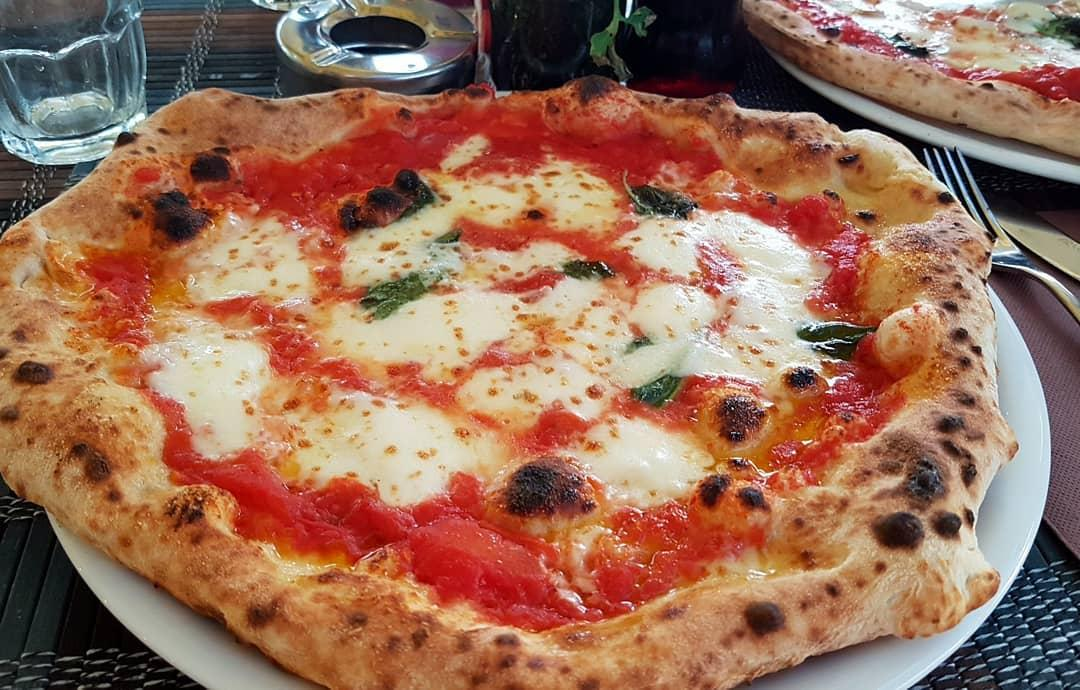Basil: (612, 169, 704, 226), (796, 310, 882, 369), (356, 270, 441, 322), (621, 364, 681, 417), (554, 255, 621, 291), (393, 187, 443, 232), (1032, 11, 1080, 53), (618, 325, 655, 358), (435, 228, 466, 249)
Cheese: (557, 276, 820, 388), (275, 392, 490, 515), (139, 309, 281, 456), (635, 205, 813, 279), (189, 209, 314, 314), (316, 300, 517, 364), (440, 163, 621, 232), (563, 423, 705, 502), (346, 227, 550, 281), (469, 356, 600, 420)
Pizza: (0, 71, 1023, 690), (740, 0, 1080, 163)
